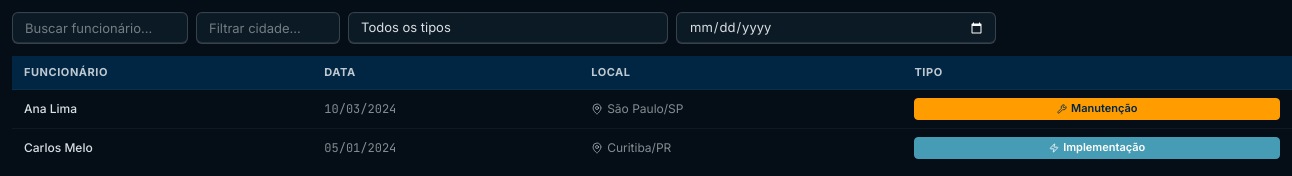
Scenario: MachineJobHistory › filtra por funcionário ao digitar no campo de busca
This screenshot has width=1292, height=176.
Type "Carlos" into the field with placeholder "Buscar funcionário…".
click(100, 28); type("Carlos")  # box [12,12,188,44]
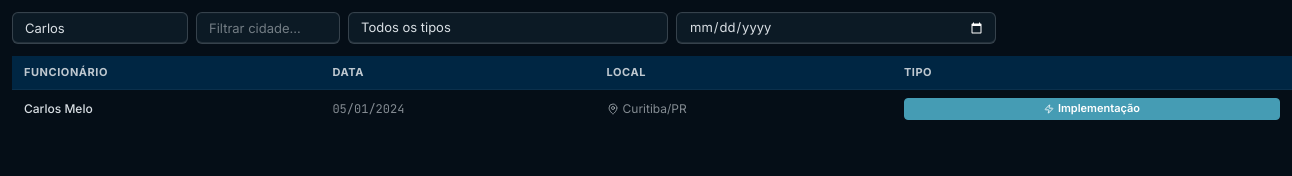
Check: the text "Carlos Melo" is shown, box [12,90,320,128]
Check: the button "Ana Lima" is gone
